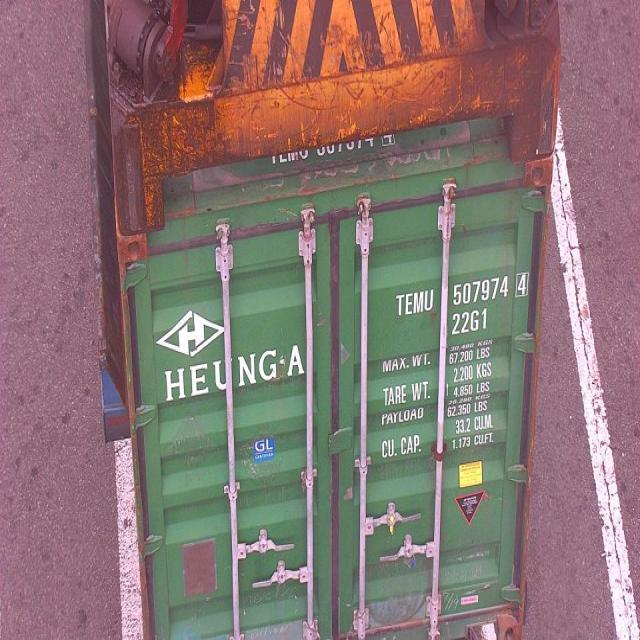ISO: (454, 309, 490, 332)
container_number: (396, 275, 529, 308)
